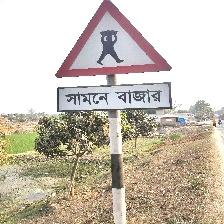Market-in-front: (55, 0, 173, 113)
